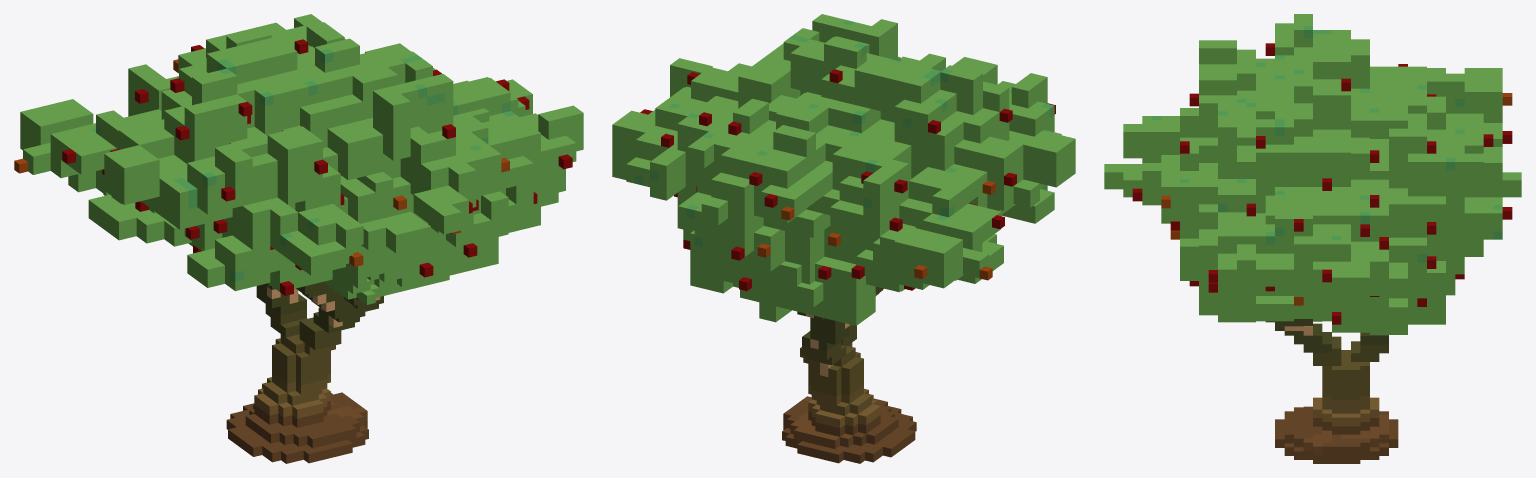
The model's file is Arbórea Exótica - Acerola.obj.
3 renders of one model, left to right at view 1: azimuth 30°, elevation 25°; view 2: azimuth 150°, elevation 25°; view 3: azimuth 270°, elevation 25°, orthographic. The views are drawn at different scales.
Bounding box in the file's own units: 5.2 × 4.3 × 4.4.
1 material, 1 textured.
